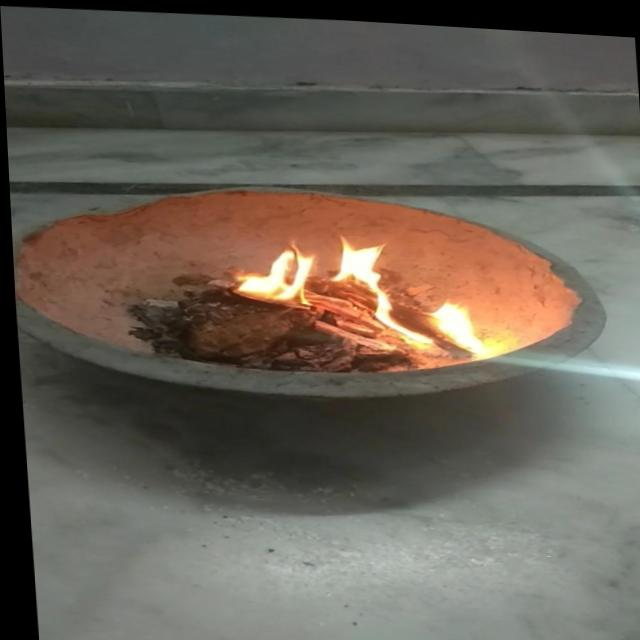fire: (217, 227, 406, 316), (362, 291, 492, 355)
